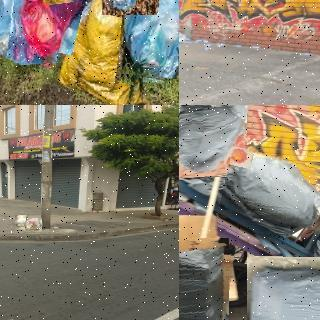Garbage: (54, 0, 152, 105), (222, 152, 320, 228), (179, 105, 248, 179), (245, 256, 320, 320), (119, 0, 179, 79), (179, 234, 232, 320), (12, 0, 77, 64), (0, 0, 42, 60), (26, 218, 42, 231), (15, 216, 28, 226)
